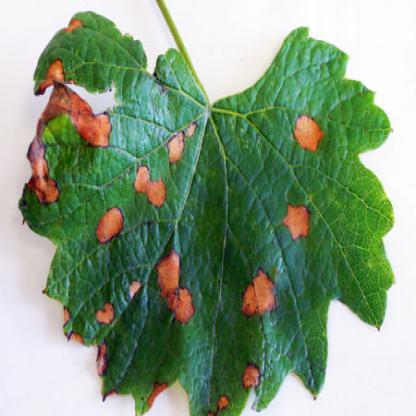grape leaf: (15, 5, 396, 414)
